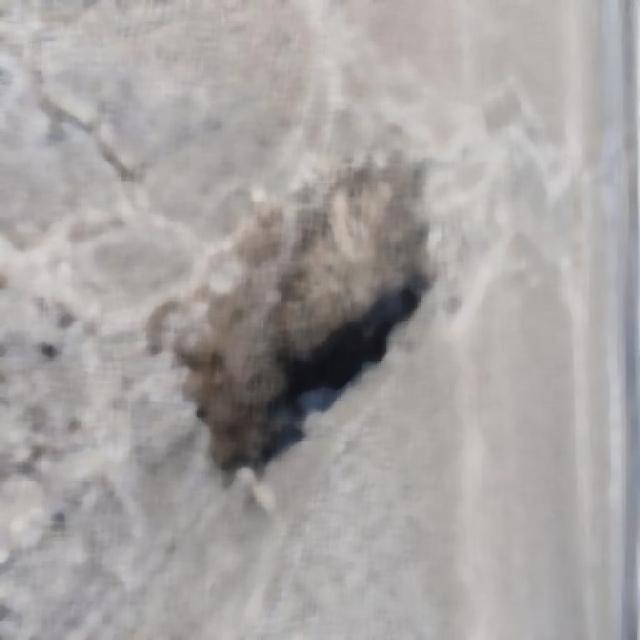Pothole: (162, 166, 430, 488)
